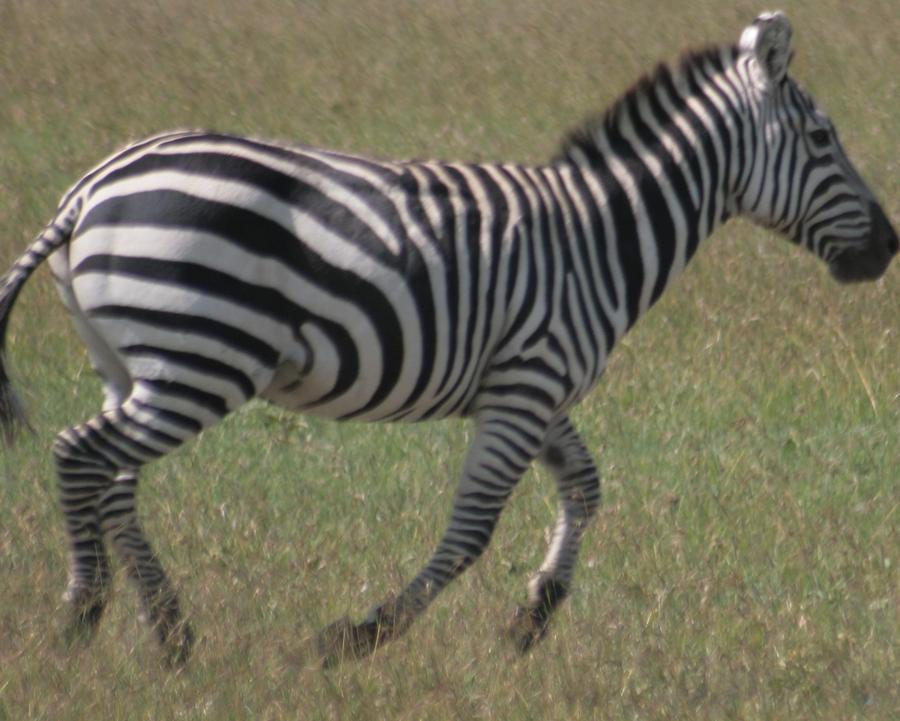zebra_plains: (106, 139, 636, 450)
